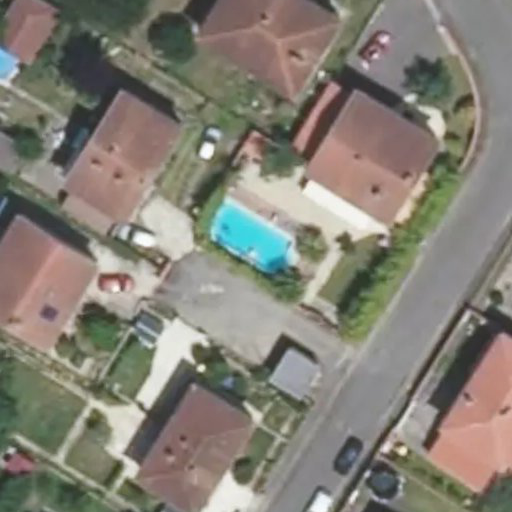pool: (212, 238, 295, 245)
